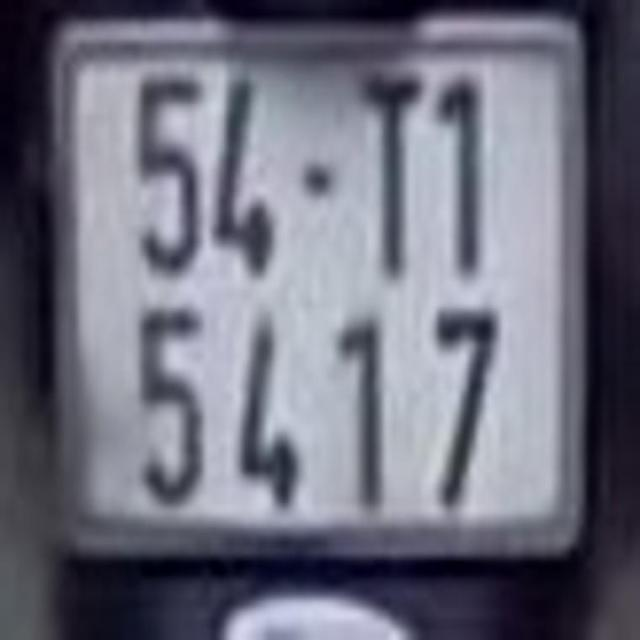1: (336, 314, 390, 509), (436, 76, 484, 273)
4: (236, 308, 303, 513), (213, 75, 276, 279)
5: (136, 303, 208, 507), (134, 73, 203, 276)
7: (433, 302, 499, 508)
T: (358, 76, 423, 276)
